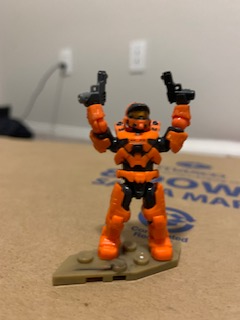pistol: (158, 68, 199, 107), (78, 69, 111, 107)
spartan: (78, 101, 192, 263)
up: (81, 92, 193, 172)
